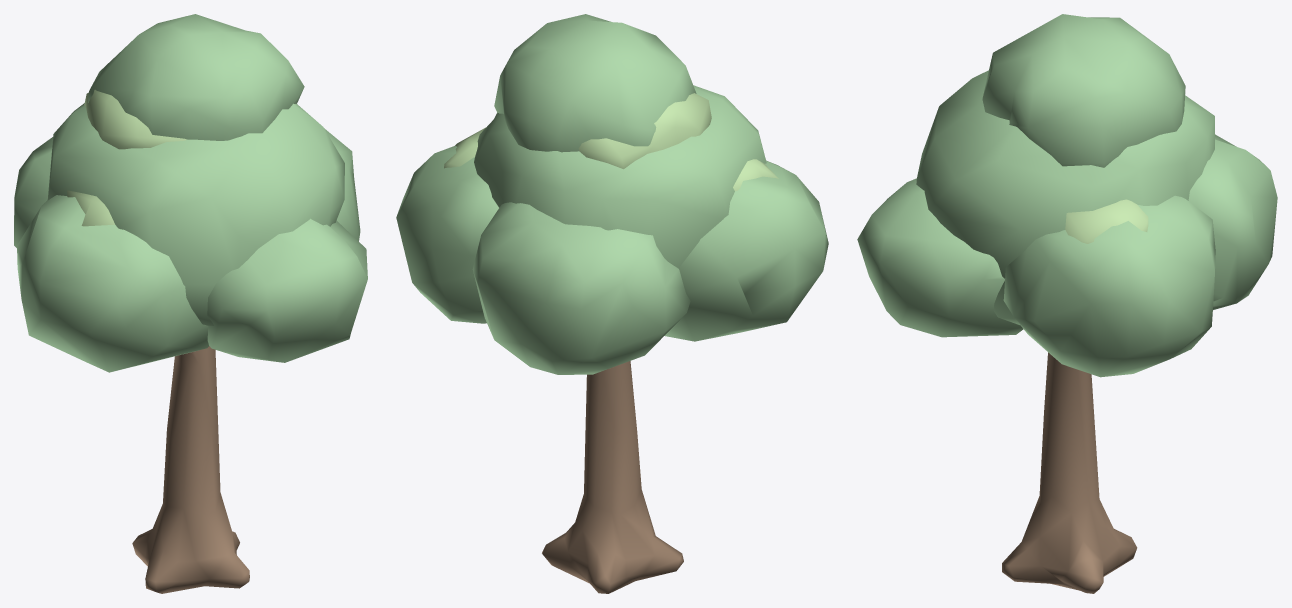
Rendered from prop_tree.glb.
3 views of the same model, side by side, from view 1: azimuth 30°, elevation 25°; view 2: azimuth 150°, elevation 25°; view 3: azimuth 270°, elevation 25° (orthographic). The views are drawn at different scales.
Parts seen in each view (by area): view 1: prop_tree; view 2: prop_tree; view 3: prop_tree.
Part boxes in pixels (x1,y1,x2,y2): prop_tree: (14, 14, 367, 593); prop_tree: (396, 14, 828, 593); prop_tree: (857, 14, 1277, 593).
Bounding box in the file's own units: 3.11 × 4.54 × 3.09.
